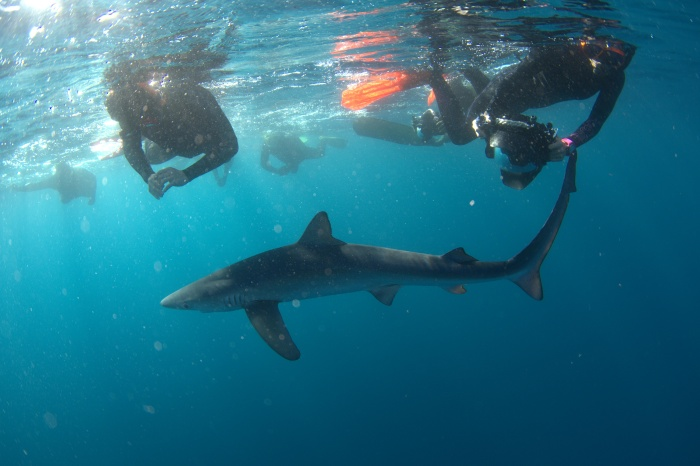Azul: (142, 135, 603, 373)
